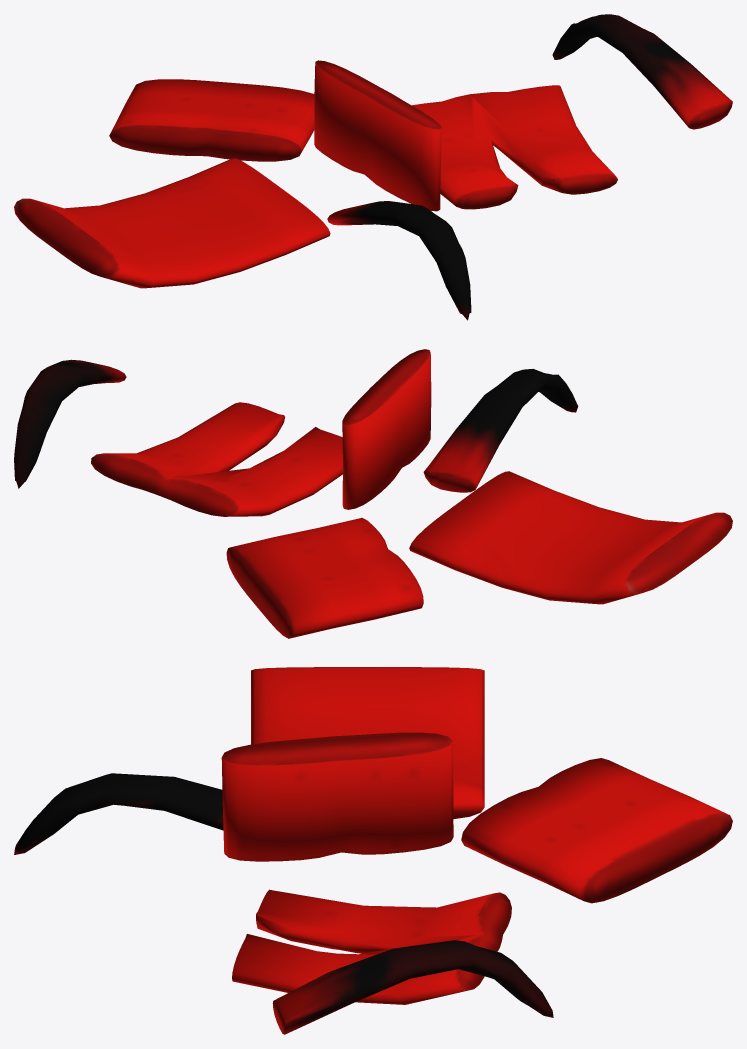
Rendered from LinguaDeCobra_cortada.fbx.
The picture shows the model from 3 angles, top to bottom: view 1: azimuth 30°, elevation 25°; view 2: azimuth 150°, elevation 25°; view 3: azimuth 270°, elevation 25°; orthographic projection. The views are drawn at different scales.
Visible parts, largest first — view 1: LinguaDeCobra_cortada; view 2: LinguaDeCobra_cortada; view 3: LinguaDeCobra_cortada.
Boxes of the visible parts, x1,y1,x2,y2 form: LinguaDeCobra_cortada: (14, 14, 732, 320); LinguaDeCobra_cortada: (14, 349, 732, 638); LinguaDeCobra_cortada: (14, 667, 732, 1034).
Size of the model in its own units: 186 by 33.62 by 153.
Materials: 1 (1 with a texture image).
